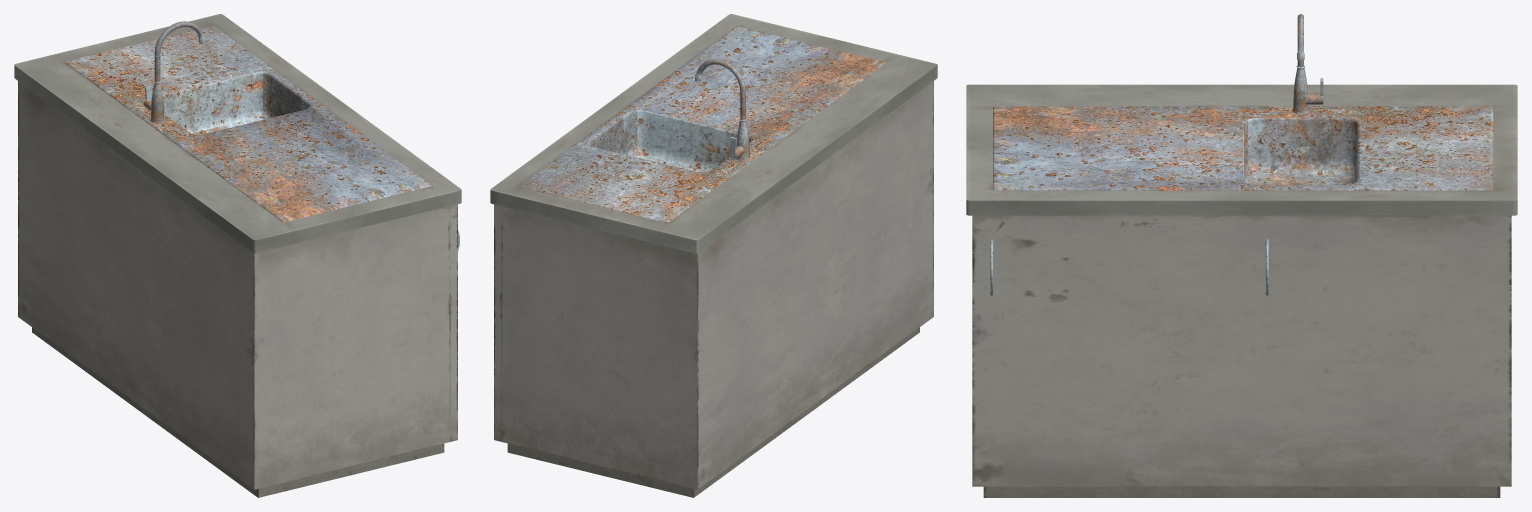
File: counter-remake.fbx
3 renders of one model, left to right at view 1: azimuth 30°, elevation 25°; view 2: azimuth 150°, elevation 25°; view 3: azimuth 270°, elevation 25°, orthographic. The views are drawn at different scales.
Parts seen in each view (by area): view 1: body_low, sink_low, tap_low; view 2: body_low, sink_low, tap_low; view 3: body_low, sink_low, tap_low.
Part boxes in pixels (x1,y1,x2,y2): body_low: (14,14,461,497); sink_low: (65,25,431,222); tap_low: (143,21,205,123); body_low: (490,14,937,497); sink_low: (519,26,885,222); tap_low: (695,59,749,161); body_low: (966,84,1517,497); sink_low: (993,106,1493,190); tap_low: (1292,14,1323,114).
Size of the model in its own units: 47.15 by 74.79 by 90.92.
